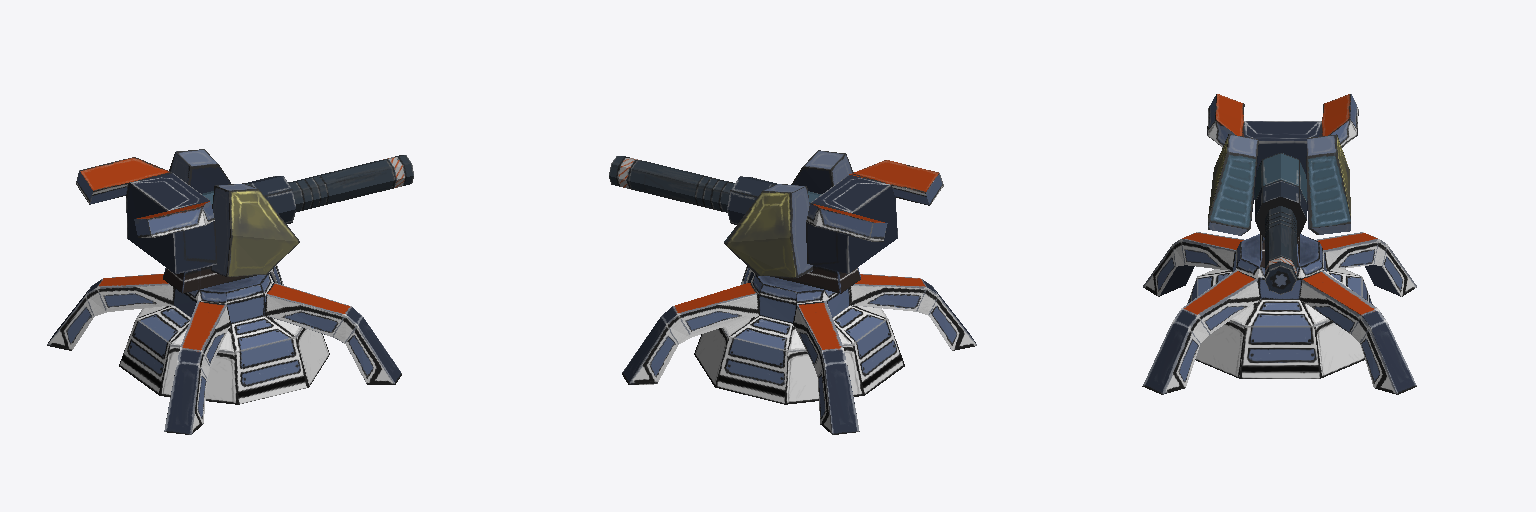
3 renders of one model, left to right at view 1: azimuth 30°, elevation 25°; view 2: azimuth 150°, elevation 25°; view 3: azimuth 270°, elevation 25°, orthographic.
Parts seen in each view (by area): view 1: Cylinder; view 2: Cylinder; view 3: Cylinder.
Part boxes in pixels (bbox=[...]): Cylinder: bbox=[47, 149, 413, 434]; Cylinder: bbox=[609, 150, 976, 434]; Cylinder: bbox=[1142, 94, 1416, 394].
Bounding box in the file's own units: 2.43 × 1.49 × 1.92.
Materials: 1 (1 with a texture image).